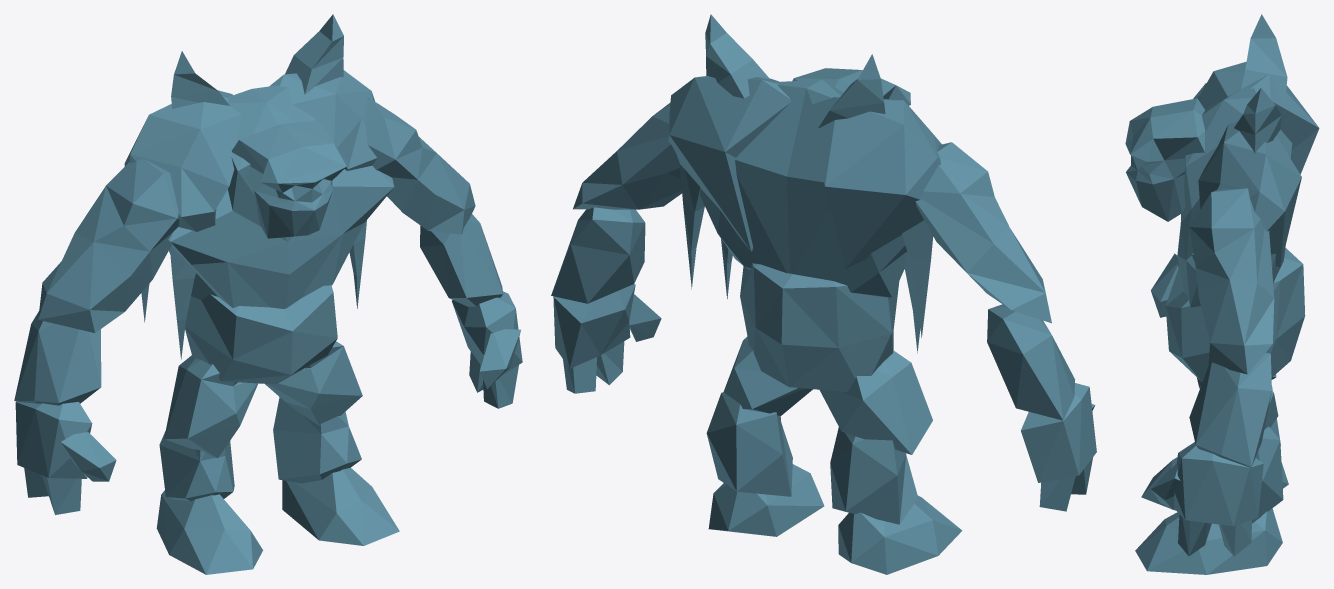
File: GOL_ICE_BODY.OBJ
3 views of the same model, side by side, from view 1: azimuth 30°, elevation 25°; view 2: azimuth 150°, elevation 25°; view 3: azimuth 270°, elevation 25° (orthographic). The views are drawn at different scales.
Parts seen in each view (by area): view 1: GOL_ICE_BODY; view 2: GOL_ICE_BODY; view 3: GOL_ICE_BODY.
Boxes of the visible parts, x1,y1,x2,y2 form: GOL_ICE_BODY: [14, 14, 522, 574]; GOL_ICE_BODY: [551, 14, 1096, 574]; GOL_ICE_BODY: [1125, 14, 1319, 574].
Size of the model in its own units: 2.6 by 2.43 by 0.8941.
